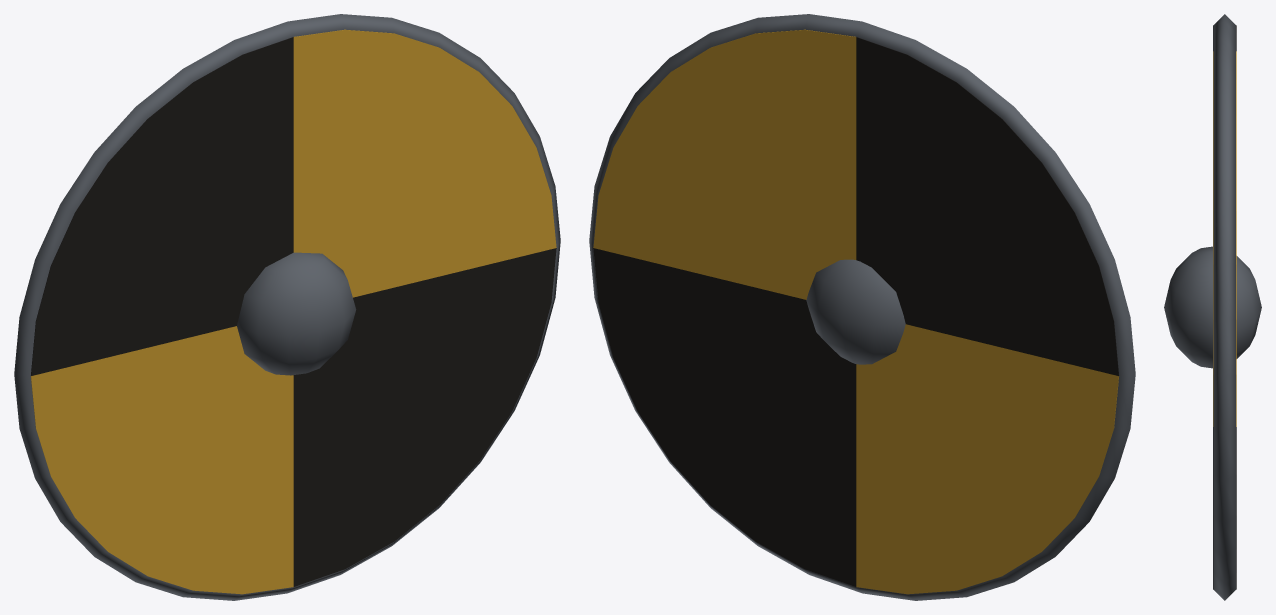
File: Shield_Gokstad_Back.gltf
The picture shows the model from 3 angles, left to right: view 1: azimuth 30°, elevation 25°; view 2: azimuth 150°, elevation 25°; view 3: azimuth 270°, elevation 25°; orthographic projection. The views are drawn at different scales.
Visible parts, largest first — view 1: Cylinder; view 2: Cylinder; view 3: Cylinder.
Boxes of the visible parts, x1,y1,x2,y2 form: Cylinder: (14, 14, 560, 600); Cylinder: (589, 14, 1135, 600); Cylinder: (1164, 14, 1261, 600).
Size of the model in its own units: 0.624 by 0.624 by 0.104.
